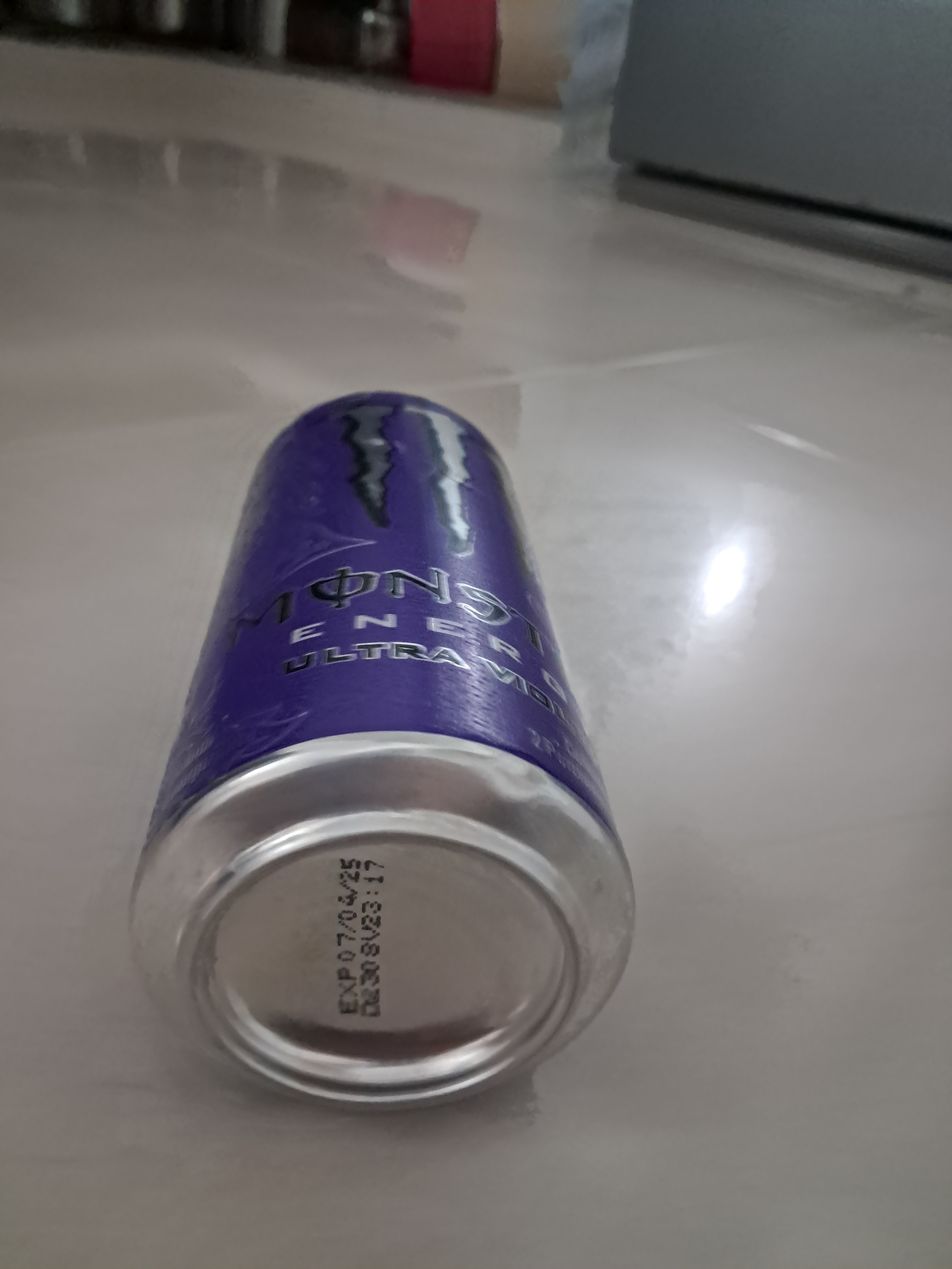energy_drink: (131, 391, 633, 1109)
